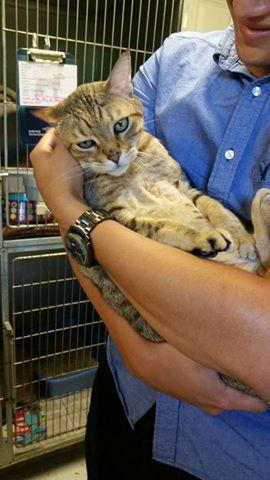bengal: (32, 48, 169, 186)
